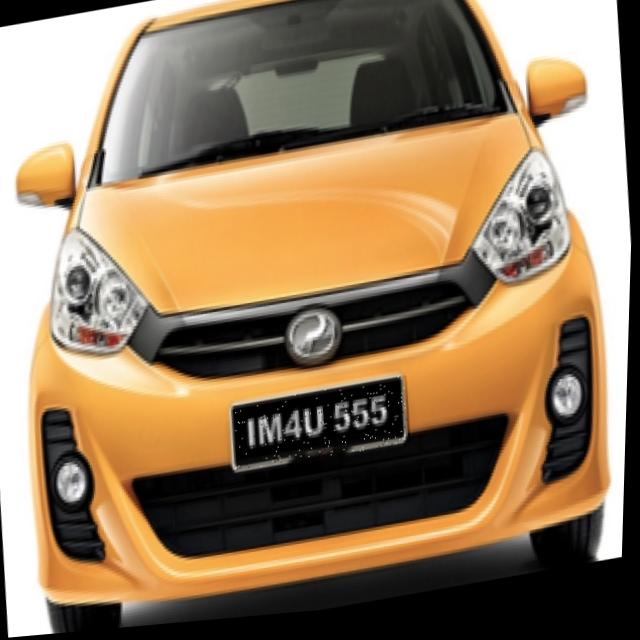license_plate: (233, 382, 414, 477)
